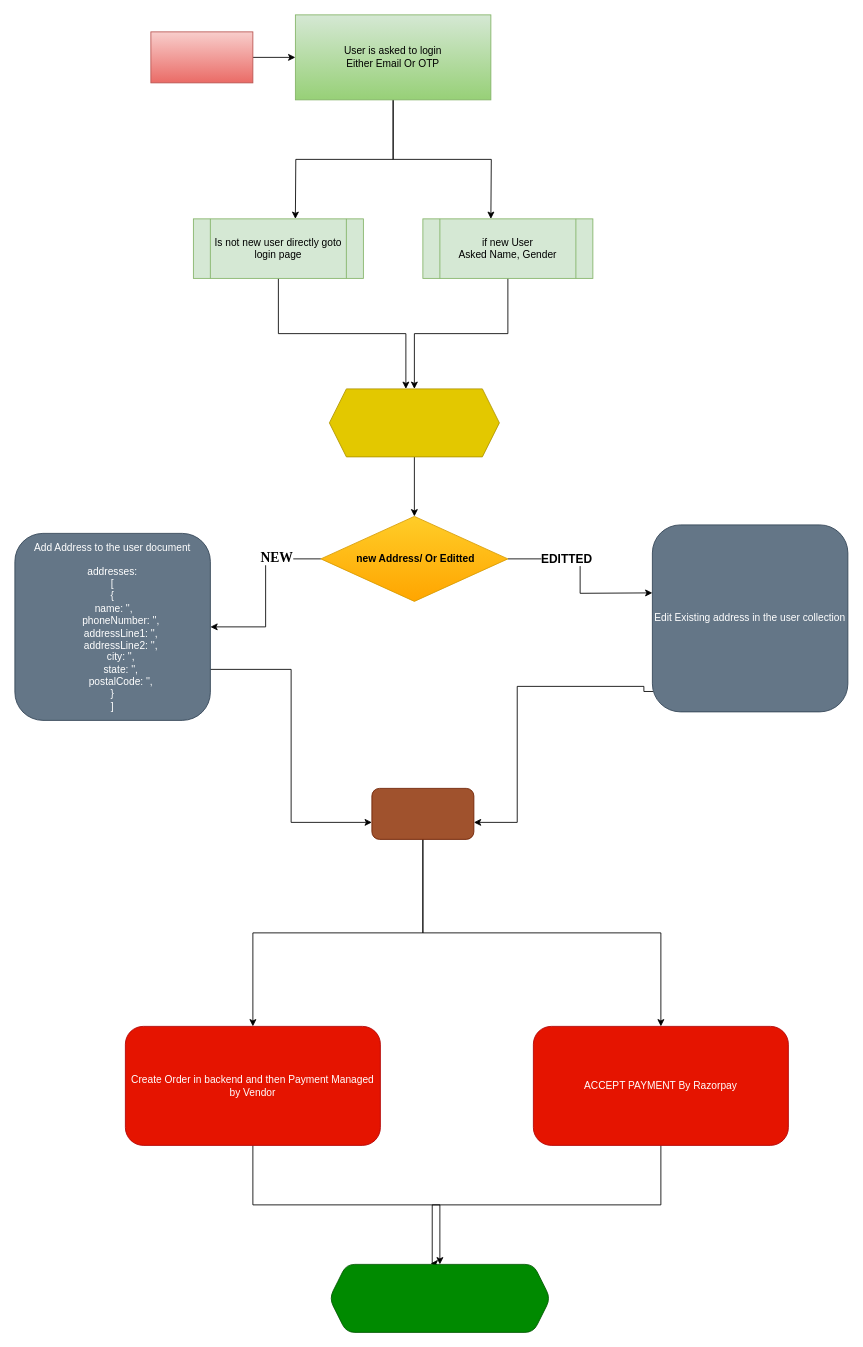
Some shapes in this 863 by 1347 pixel diagram are drawn without their labels. The centre of each missing label's shape, as x and y in pixels:
NOTIFICATION: point 439,1298
USER Adds the Order: point 422,813
User adds the product to Cart: point 201,57
User go to Select address Page All Address will be displayed.: point 414,422
